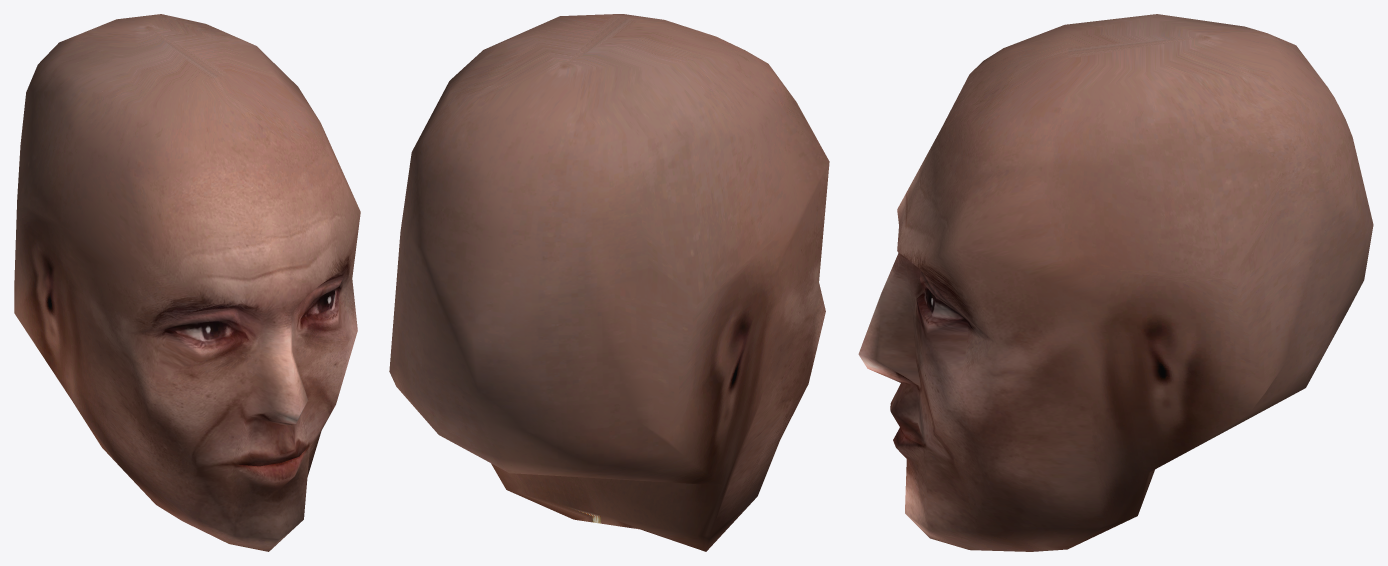
File: b_n_imperial_m_head_06.glb
3 renders of one model, left to right at view 1: azimuth 30°, elevation 25°; view 2: azimuth 150°, elevation 25°; view 3: azimuth 270°, elevation 25°, orthographic. The views are drawn at different scales.
Visible parts, largest first — view 1: Tri B_N_Imperial_M_Head_06; view 2: Tri B_N_Imperial_M_Head_06; view 3: Tri B_N_Imperial_M_Head_06.
Boxes of the visible parts, left/top/right/bottom form: Tri B_N_Imperial_M_Head_06: left=14, top=14, right=360, bottom=551; Tri B_N_Imperial_M_Head_06: left=389, top=14, right=829, bottom=551; Tri B_N_Imperial_M_Head_06: left=858, top=14, right=1373, bottom=551.
Size of the model in its own units: 0.097 by 0.1597 by 0.1487.
Materials: 1 (1 with a texture image).
